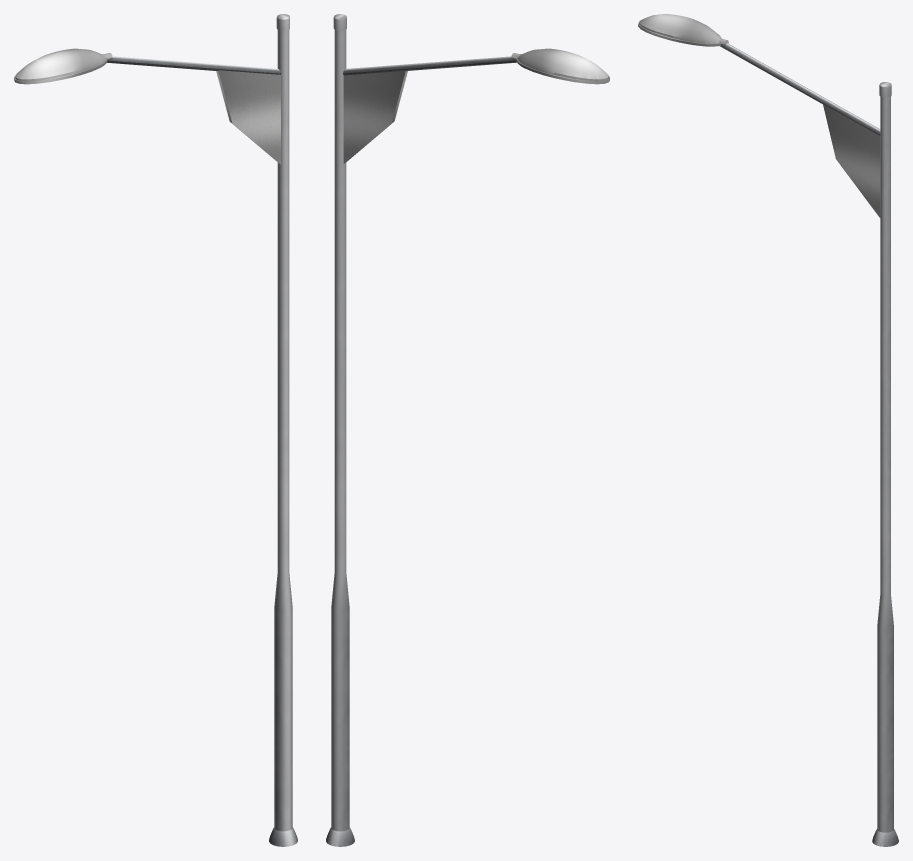
The picture shows the model from 3 angles, left to right: view 1: azimuth 30°, elevation 25°; view 2: azimuth 150°, elevation 25°; view 3: azimuth 330°, elevation 25°; orthographic projection. The views are drawn at different scales.
Visible parts, largest first — view 1: MainBuilding; view 2: MainBuilding; view 3: MainBuilding.
Boxes of the visible parts, x1,y1,x2,y2 form: MainBuilding: (14, 14, 297, 846); MainBuilding: (326, 14, 609, 846); MainBuilding: (638, 14, 898, 846).
Bounding box in the file's own units: 2.87 × 8.22 × 0.336.
1 material, 1 textured.
